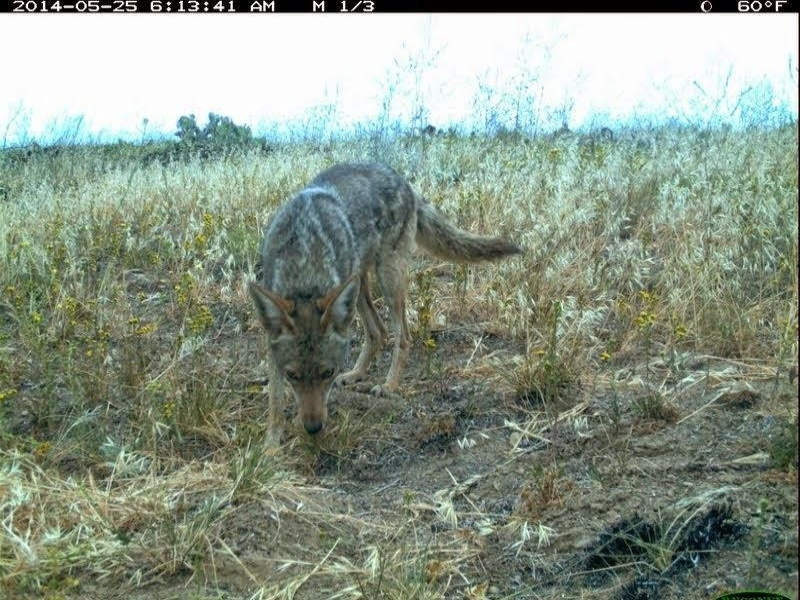coyote: (249, 155, 528, 458)
